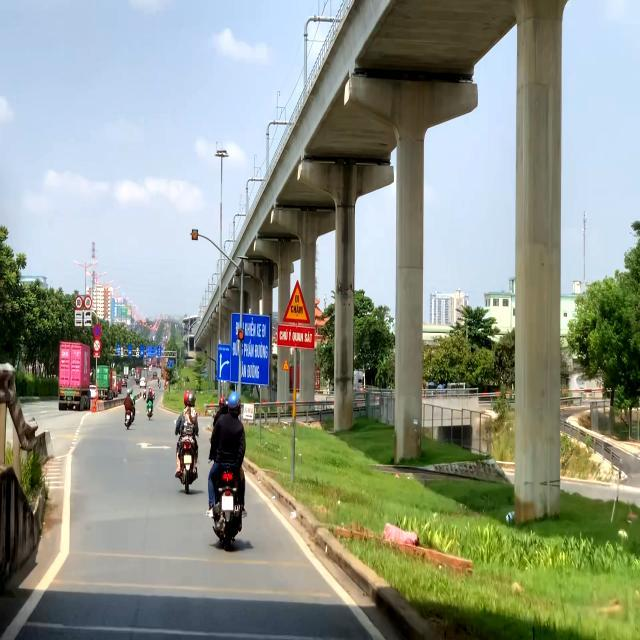W-245a: (282, 277, 308, 323)
